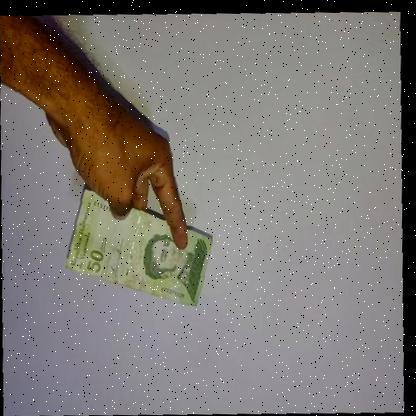fifty-front-vef: (66, 188, 216, 305)
